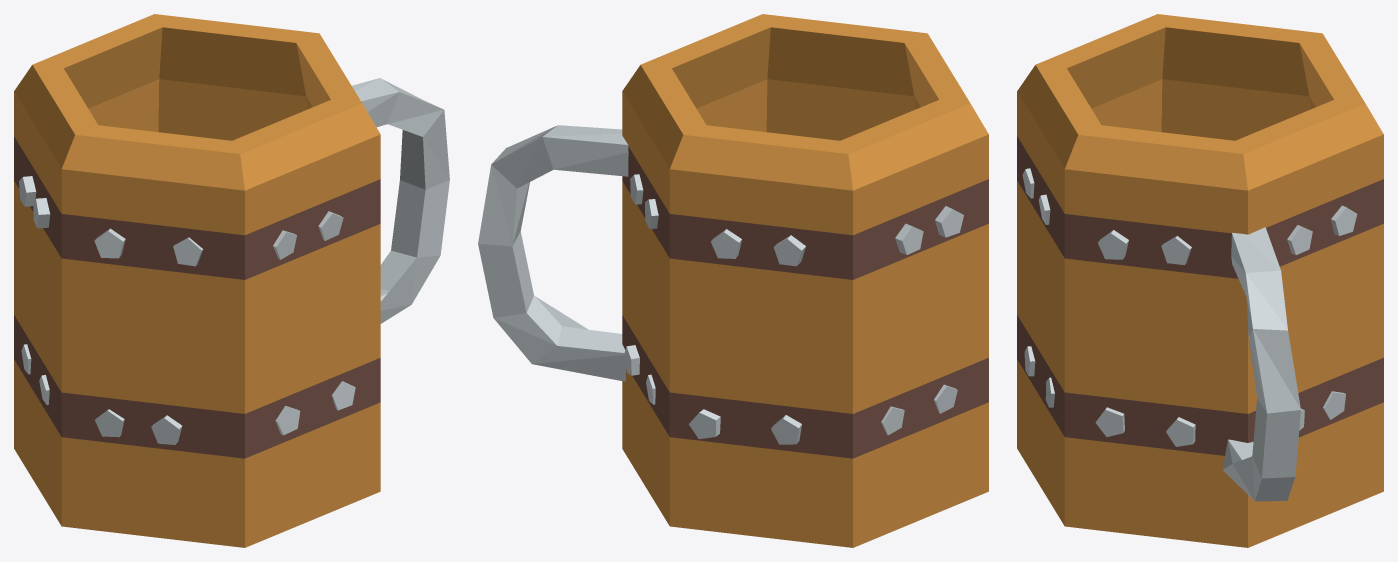
3 renders of one model, left to right at view 1: azimuth 30°, elevation 25°; view 2: azimuth 150°, elevation 25°; view 3: azimuth 270°, elevation 25°, orthographic.
Visible parts, largest first — view 1: group_1999144550, mesh_191048200, group_1957730342, group_1331568958, group_1229813348, group_848112250, group_1248787745; view 2: group_1999144550, mesh_191048200, group_399006976, group_634987471, group_270953485, group_1611366011, group_1069835193, group_695000103; view 3: group_1999144550, mesh_191048200, group_234913048, group_1770638264, group_1100801388, group_1594691754, group_675904865, group_827580489, group_706845693.
Part boxes in pixels (x1,y1,x2,y2): group_1999144550: (14,14,380,547); mesh_191048200: (352,78,449,323); group_1957730342: (94,228,125,258); group_1331568958: (151,415,182,444); group_1229813348: (173,237,203,266); group_848112250: (95,409,124,437); group_1248787745: (275,405,300,435); group_1999144550: (622,14,988,547); mesh_191048200: (478,125,628,381); group_399006976: (773,235,805,266); group_634987471: (689,409,720,439); group_270953485: (771,415,801,444); group_1611366011: (711,229,741,258); group_1069835193: (935,206,963,237); group_695000103: (895,223,923,254); group_1999144550: (1017,14,1383,547); mesh_191048200: (1222,227,1300,501); group_234913048: (1098,230,1128,259); group_1770638264: (1166,417,1195,446); group_1100801388: (1161,236,1191,265); group_1594691754: (1095,407,1124,436); group_675904865: (1331,205,1357,235); group_827580489: (1287,225,1312,254); group_706845693: (1323,391,1345,419).
Size of the model in its own units: 16.22 by 13.43 by 11.56.
